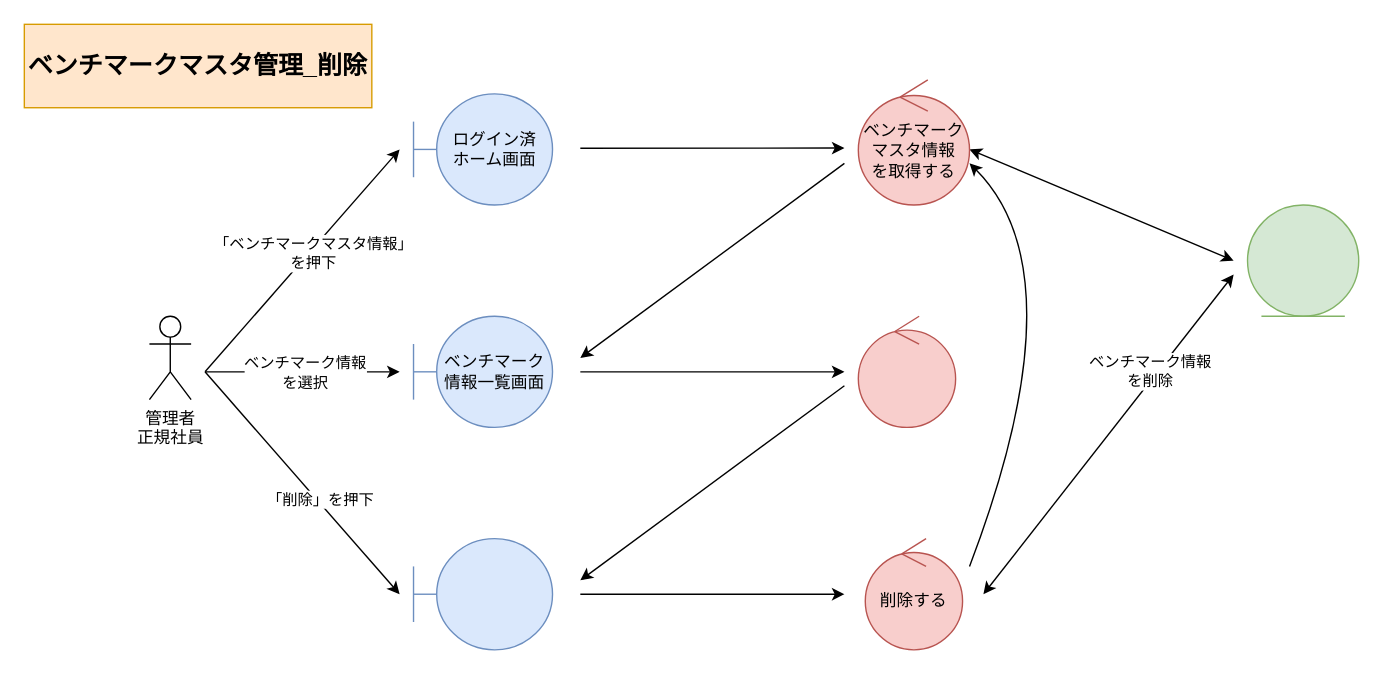
The diagram is 1383 pixels wide and 674 high, and some of its shapes have lost their labels. The shapes that lost their labels are listed below. From the top down, each one's centre as x and y in pixels, then its label:
At point (1302, 260): "ベンチマーク情報".
At point (906, 371): "表示する".
At point (482, 593): "詳細画面".
